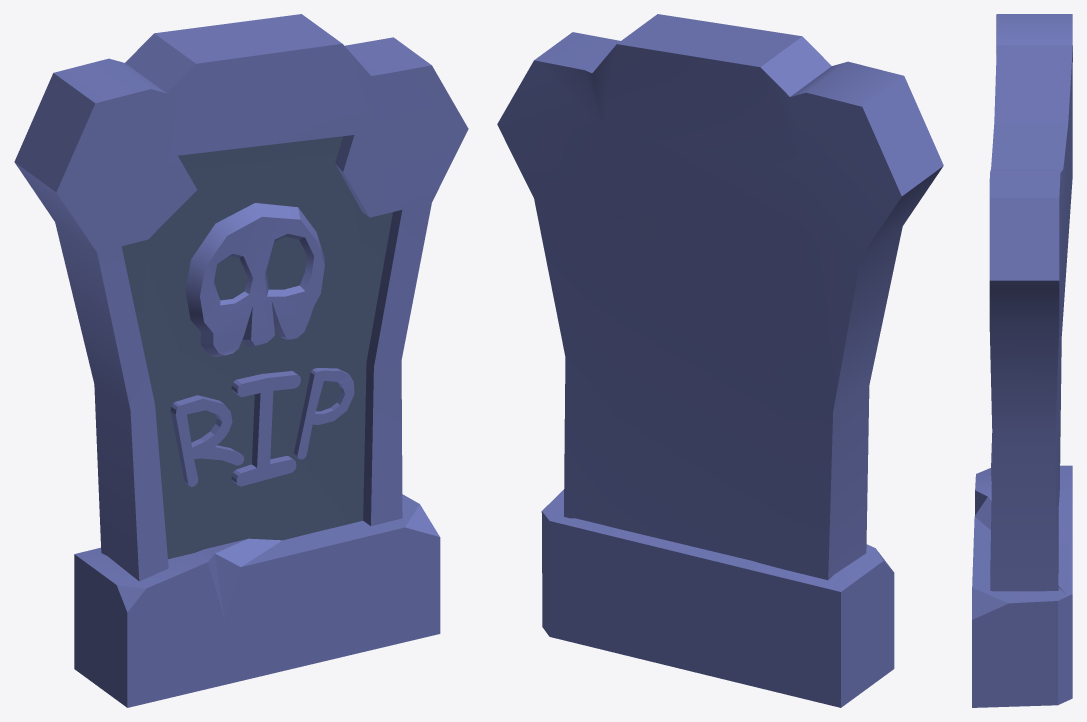
Rendered from lapide_01.fbx.
3 views of the same model, side by side, from view 1: azimuth 30°, elevation 25°; view 2: azimuth 150°, elevation 25°; view 3: azimuth 270°, elevation 25° (orthographic). The views are drawn at different scales.
Visible parts, largest first — view 1: lapide_1; view 2: lapide_1; view 3: lapide_1.
Part boxes in pixels (x1=…): lapide_1: x1=14, y1=14, x2=468, y2=707; lapide_1: x1=497, y1=14, x2=943, y2=707; lapide_1: x1=972, y1=14, x2=1072, y2=707.
Bounding box in the file's own units: 268 × 387 × 63.05.
